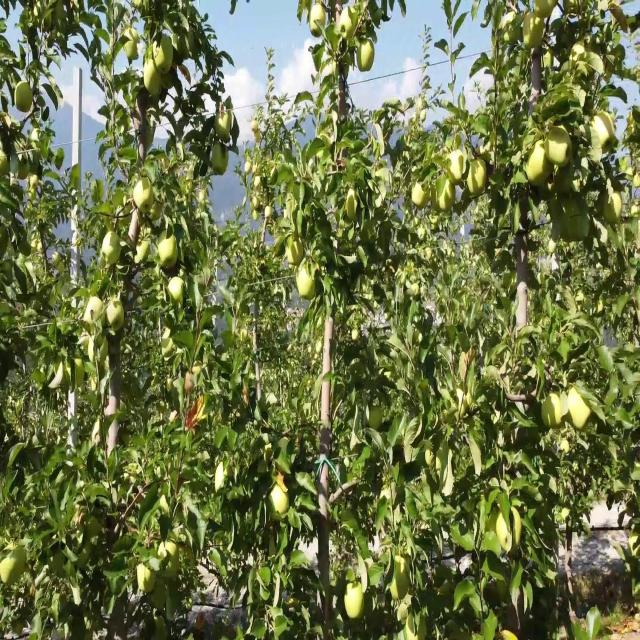apple: (528, 142, 552, 187), (496, 511, 523, 551), (568, 391, 592, 432), (592, 113, 615, 155), (548, 127, 572, 165), (296, 263, 317, 300), (544, 391, 565, 428), (524, 14, 545, 50), (604, 191, 624, 228), (160, 234, 179, 272), (468, 163, 488, 197), (136, 177, 154, 213), (216, 106, 233, 142), (108, 298, 125, 334), (160, 241, 179, 272), (272, 483, 289, 517), (188, 398, 205, 432), (440, 177, 456, 213), (88, 298, 104, 334), (160, 56, 176, 92), (144, 63, 160, 98), (188, 398, 204, 432), (360, 42, 376, 75), (104, 234, 120, 267), (16, 85, 34, 114), (448, 156, 466, 185), (156, 42, 174, 71), (344, 191, 360, 222), (160, 63, 177, 92), (556, 170, 574, 197), (212, 149, 228, 178), (168, 277, 184, 306), (124, 35, 140, 64), (348, 590, 364, 619), (312, 7, 327, 37), (140, 568, 157, 594), (288, 241, 305, 265), (368, 405, 384, 430), (460, 184, 473, 213), (340, 14, 354, 39), (148, 199, 163, 222), (416, 184, 428, 212), (273, 469, 288, 489), (360, 227, 375, 247), (0, 156, 12, 178), (0, 227, 9, 254), (536, 7, 552, 21), (140, 241, 150, 263), (184, 378, 195, 393), (20, 163, 29, 181), (352, 327, 361, 341), (432, 191, 439, 206), (252, 206, 259, 220), (244, 391, 250, 405), (636, 170, 640, 190)
